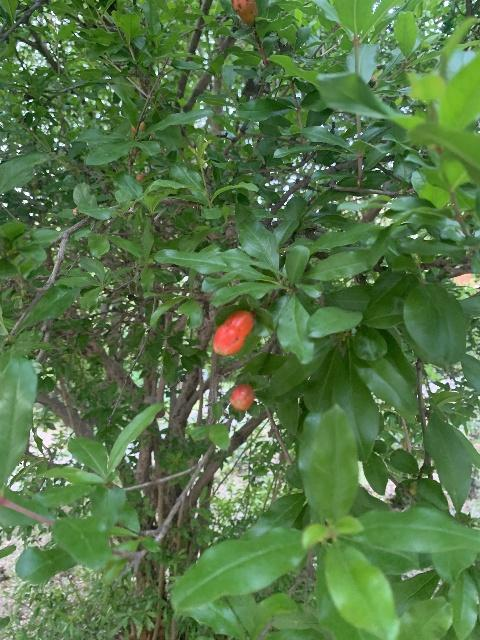bud: (212, 309, 253, 356), (231, 0, 258, 26), (229, 383, 254, 411)
